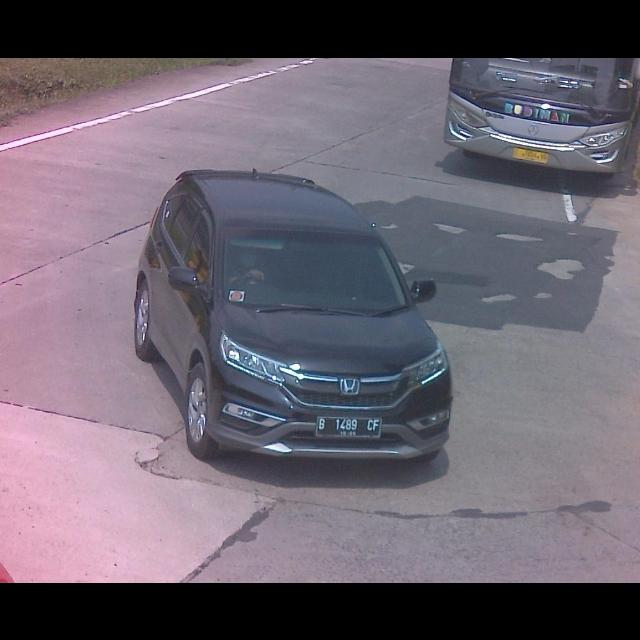plate: (315, 413, 387, 441)
